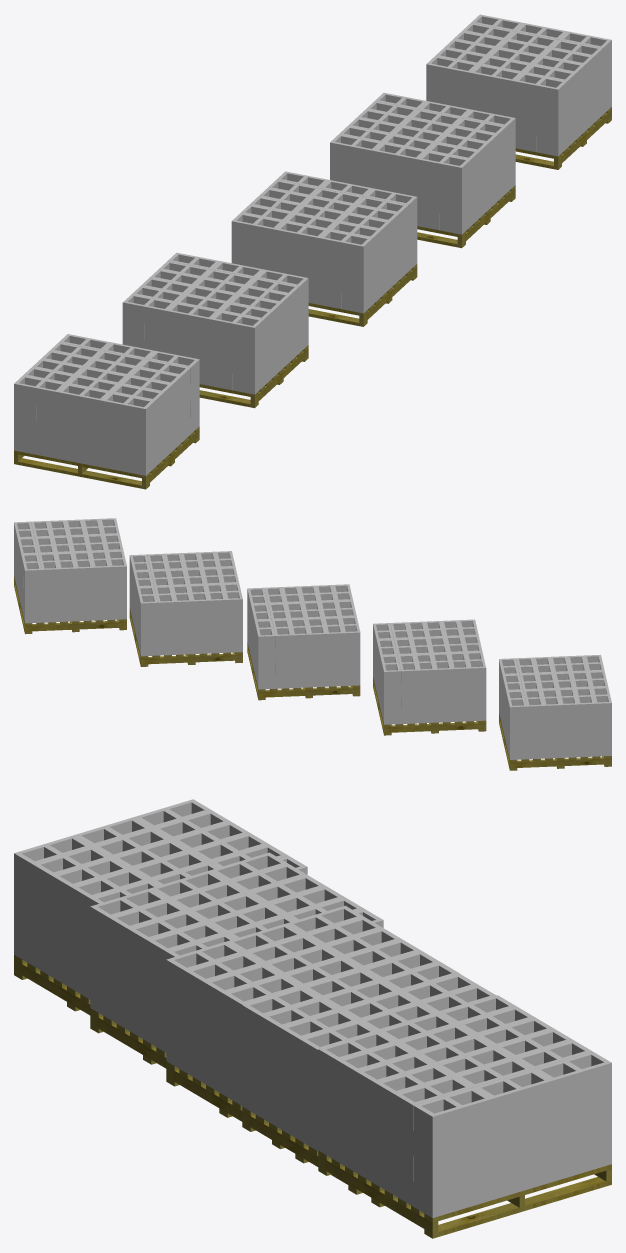
3 views of the same model, one above another, from view 1: azimuth 30°, elevation 25°; view 2: azimuth 150°, elevation 25°; view 3: azimuth 270°, elevation 25° (orthographic). The views are drawn at different scales.
Visible parts, largest first — view 1: cmu_8x16x8 (×32), Component_1; view 2: cmu_8x16x8 (×60), Component_4 (×5); view 3: cmu_8x16x8 (×91), Component_4 (×5), Component_1 (×2).
Boxes of the visible parts, bbox=[...] form: cmu_8x16x8 (×32): bbox=[14, 56, 575, 475]; Component_1: bbox=[14, 458, 149, 489]; cmu_8x16x8 (×60): bbox=[21, 550, 611, 759]; Component_4 (×5): bbox=[24, 620, 611, 768]; cmu_8x16x8 (×91): bbox=[14, 799, 611, 1217]; Component_4 (×5): bbox=[14, 959, 438, 1233]; Component_1 (×2): bbox=[424, 1164, 611, 1238].
Bounding box in the file's own units: 96.95 × 48.87 × 27.56.
Materials: 2 (1 with a texture image).
